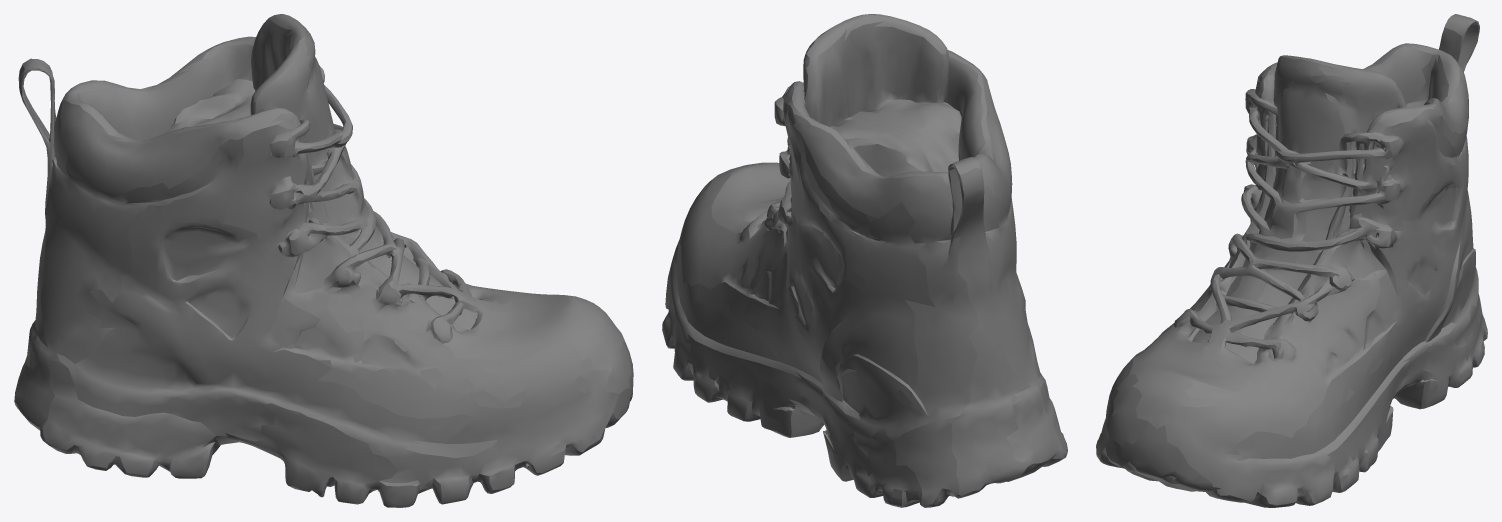
Rendered from completion_boot_0.glb.
3 views of the same model, side by side, from view 1: azimuth 30°, elevation 25°; view 2: azimuth 150°, elevation 25°; view 3: azimuth 270°, elevation 25° (orthographic). The views are drawn at different scales.
Visible parts, largest first — view 1: geometry_0; view 2: geometry_0; view 3: geometry_0.
Part boxes in pixels (x1=…): geometry_0: x1=14, y1=14, x2=633, y2=507; geometry_0: x1=662, y1=14, x2=1067, y2=507; geometry_0: x1=1096, y1=14, x2=1487, y2=507.
Bounding box in the file's own units: 1 × 0.8183 × 0.7918.
1 material, 1 textured.
